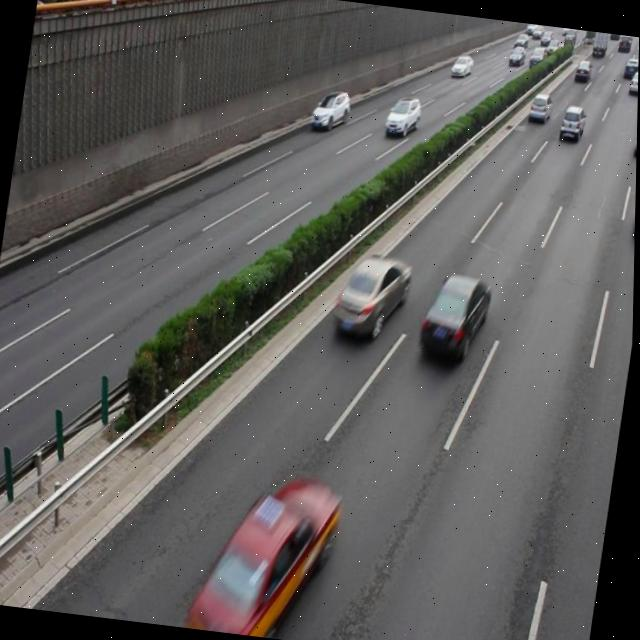car: (199, 468, 344, 640), (330, 250, 414, 345), (416, 268, 494, 366), (310, 86, 352, 131), (384, 94, 422, 137), (631, 184, 637, 241)
